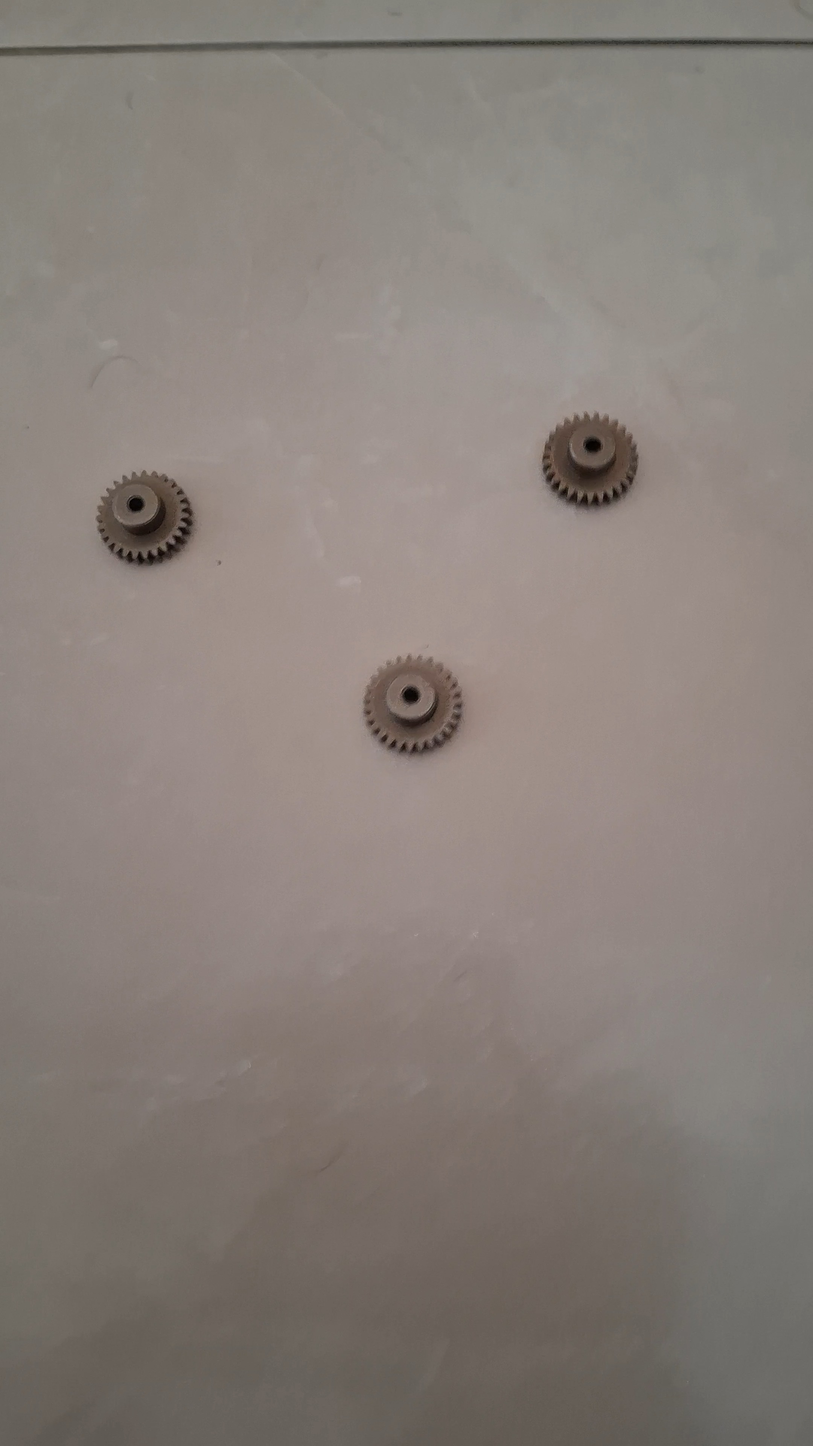spur gear: (364, 655, 462, 752), (97, 472, 192, 563), (543, 414, 638, 504)
